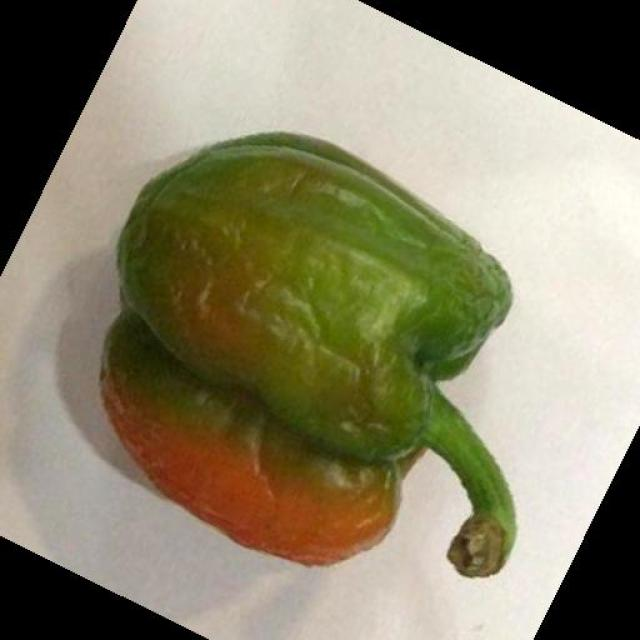Stale_Capsicum: (109, 124, 464, 588)
